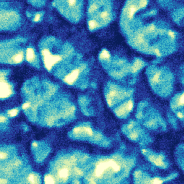hole_filled: (43, 144, 136, 184), (17, 73, 79, 132), (117, 5, 182, 61), (37, 32, 94, 92), (94, 38, 146, 82), (101, 79, 138, 122), (144, 63, 178, 99), (84, 5, 118, 34), (0, 34, 26, 68), (49, 4, 84, 26), (27, 135, 54, 163), (1, 64, 19, 104), (0, 5, 24, 32)
